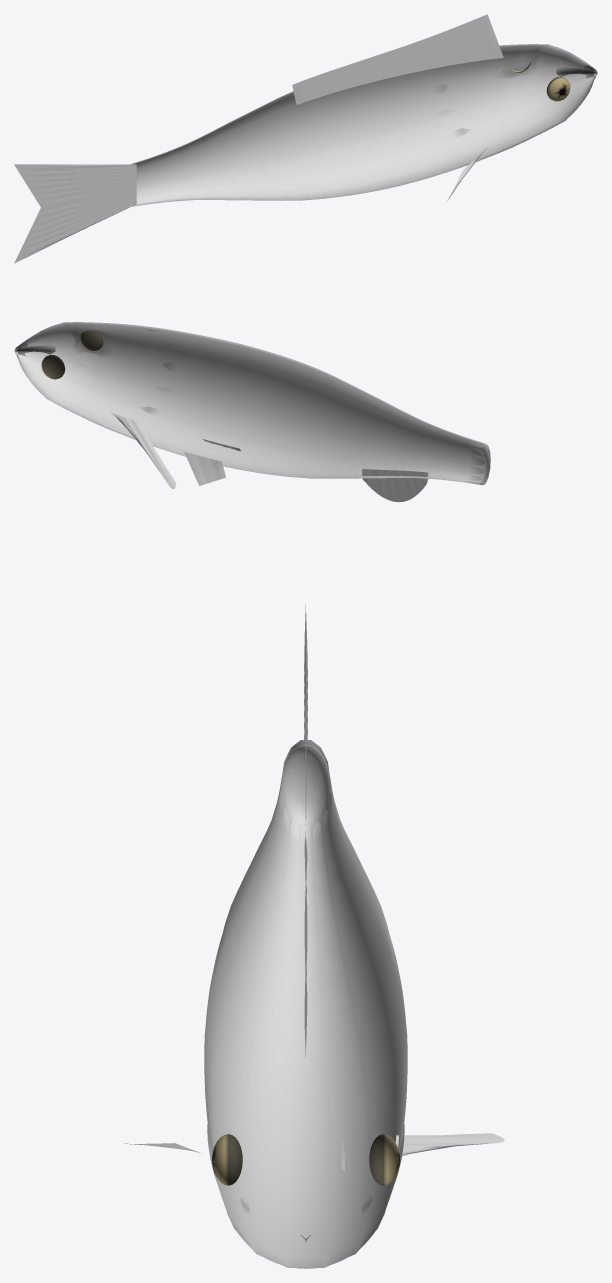
File: brown-trout.glb
The picture shows the model from 3 angles, top to bottom: view 1: azimuth 30°, elevation 25°; view 2: azimuth 150°, elevation 25°; view 3: azimuth 270°, elevation 25°; orthographic projection. The views are drawn at different scales.
Visible parts, largest first — view 1: BodyLow, Fins, Body, Eyes; view 2: BodyLow, Body, Fins, Eyes; view 3: BodyLow, Body, Fins, Eyes.
Boxes of the visible parts, left/top/right/bottom form: BodyLow: left=128, top=44, right=597, bottom=207; Fins: left=14, top=14, right=503, bottom=263; Body: left=126, top=44, right=597, bottom=205; Eyes: left=508, top=61, right=570, bottom=101; BodyLow: left=14, top=322, right=490, bottom=485; Body: left=14, top=322, right=489, bottom=483; Fins: left=110, top=380, right=428, bottom=502; Eyes: left=41, top=331, right=103, bottom=379; BodyLow: left=204, top=740, right=407, bottom=1267; Body: left=205, top=744, right=406, bottom=1268; Fins: left=125, top=605, right=504, bottom=1170; Eyes: left=212, top=1134, right=399, bottom=1185.
Bounding box in the file's own units: 0.6279 × 0.1643 × 0.1852.
